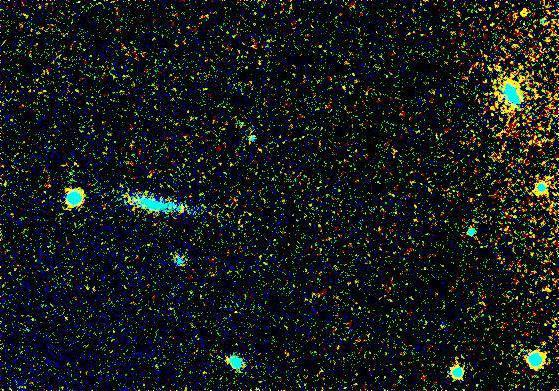star: (508, 0, 538, 29)
